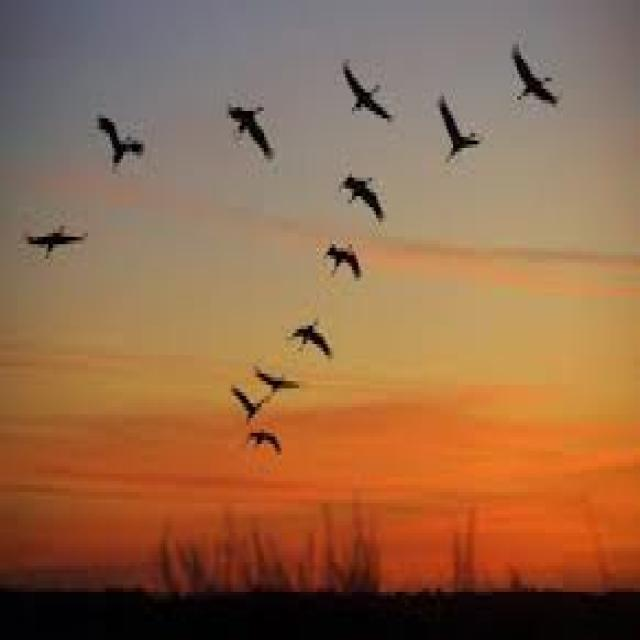bird: (424, 61, 498, 206), (82, 94, 182, 198), (5, 209, 91, 302), (316, 144, 392, 248), (342, 42, 404, 161), (508, 37, 572, 148), (216, 66, 284, 166), (310, 217, 367, 294), (286, 298, 350, 353), (254, 346, 316, 398), (224, 377, 273, 422), (237, 428, 290, 464)
